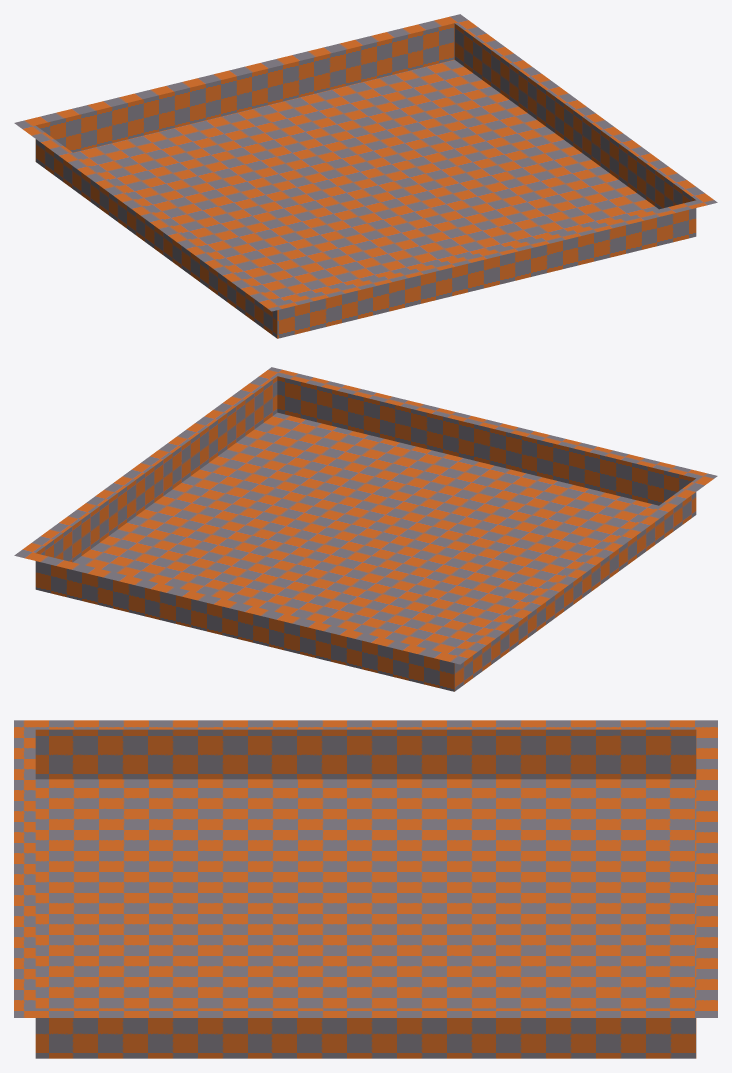
Rendered from DebugLevel.glb.
3 views of the same model, one above another, from view 1: azimuth 30°, elevation 25°; view 2: azimuth 150°, elevation 25°; view 3: azimuth 270°, elevation 25° (orthographic). The views are drawn at different scales.
Visible parts, largest first — view 1: Floor; view 2: Floor; view 3: Floor.
Boxes of the visible parts, box(x1,y1,x2,y2) form: Floor: box(14, 14, 717, 338); Floor: box(14, 367, 717, 691); Floor: box(14, 720, 717, 1058).
Size of the model in its own units: 379 by 29.57 by 379.
Materials: 1 (1 with a texture image).
